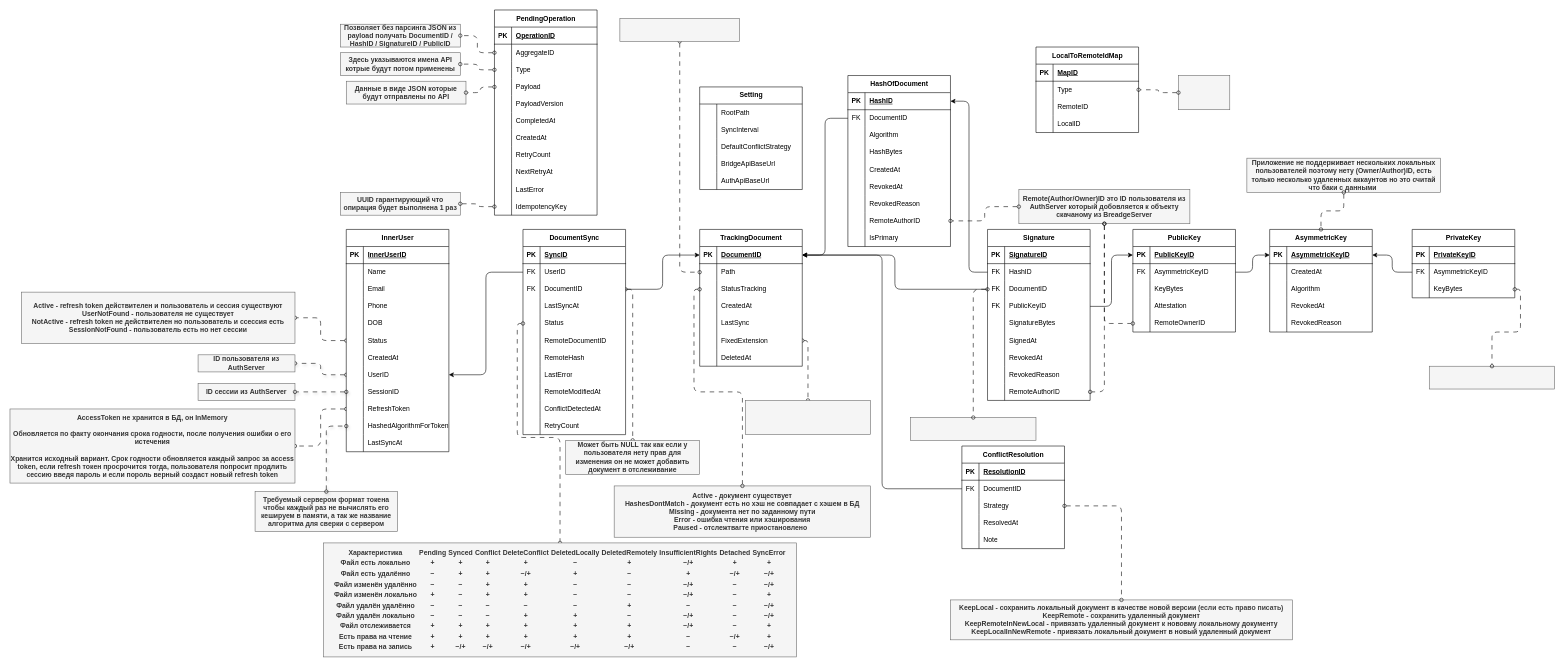
Some shapes in this 1565 by 667 pixel diagram are drawn without their labels. Each missing label, with the centre of its shape:
Hash PublicKey Signature: the point at 1204,92
Path относителен и работает от RootPath из settings: the point at 679,29
Задуманная денормализация: the point at 973,428
После добавления документа в отслеживания нельзя поменять расширение: the point at 808,417
Хранится в открытом виде: the point at 1492,377
